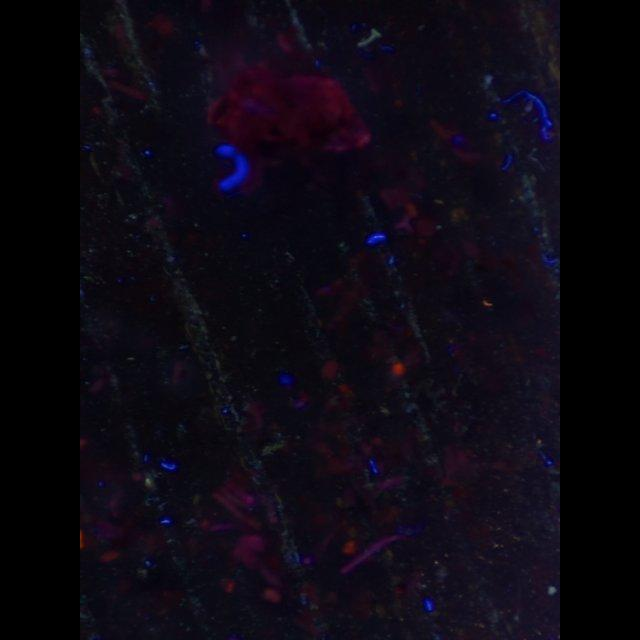microbeads: (546, 582, 560, 598)
